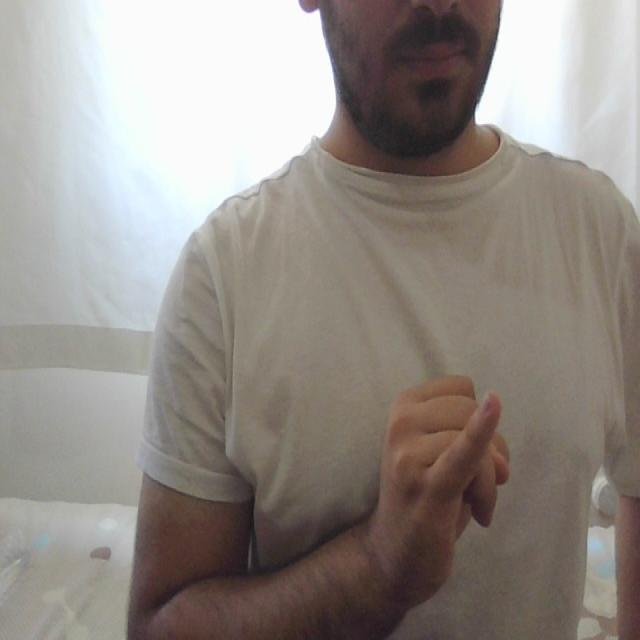kotu: (374, 358, 520, 550)
